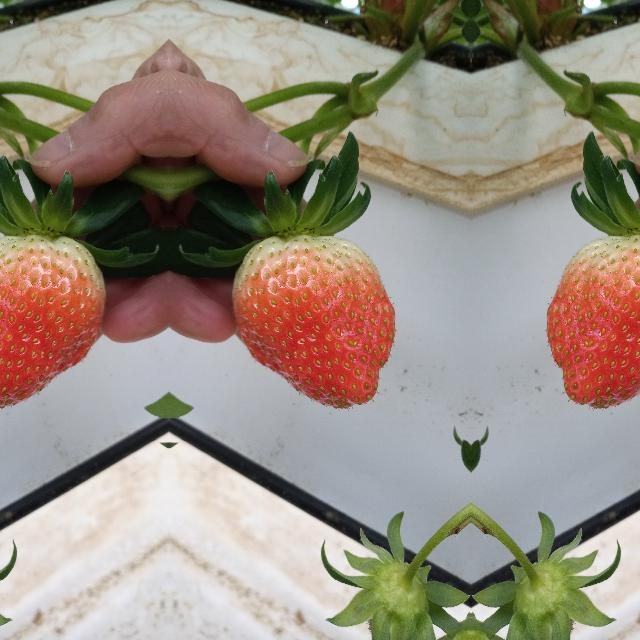Health_100: (230, 234, 396, 412), (0, 234, 106, 411), (545, 234, 640, 411)
